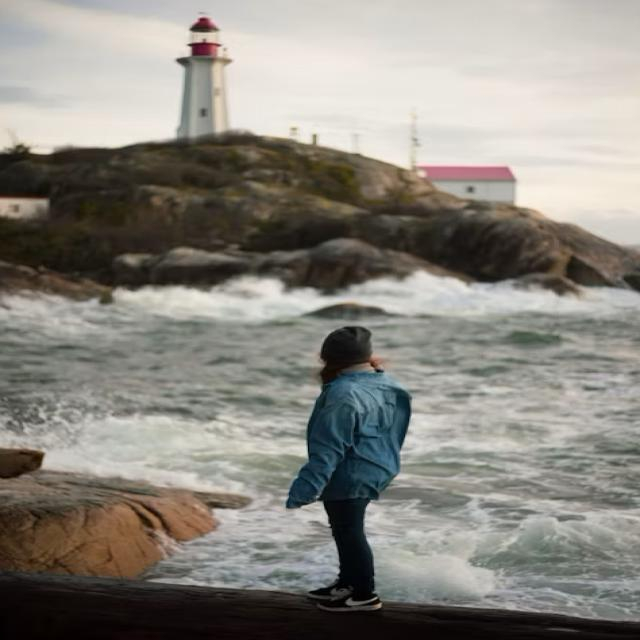Edited images: (270, 309, 449, 626)
